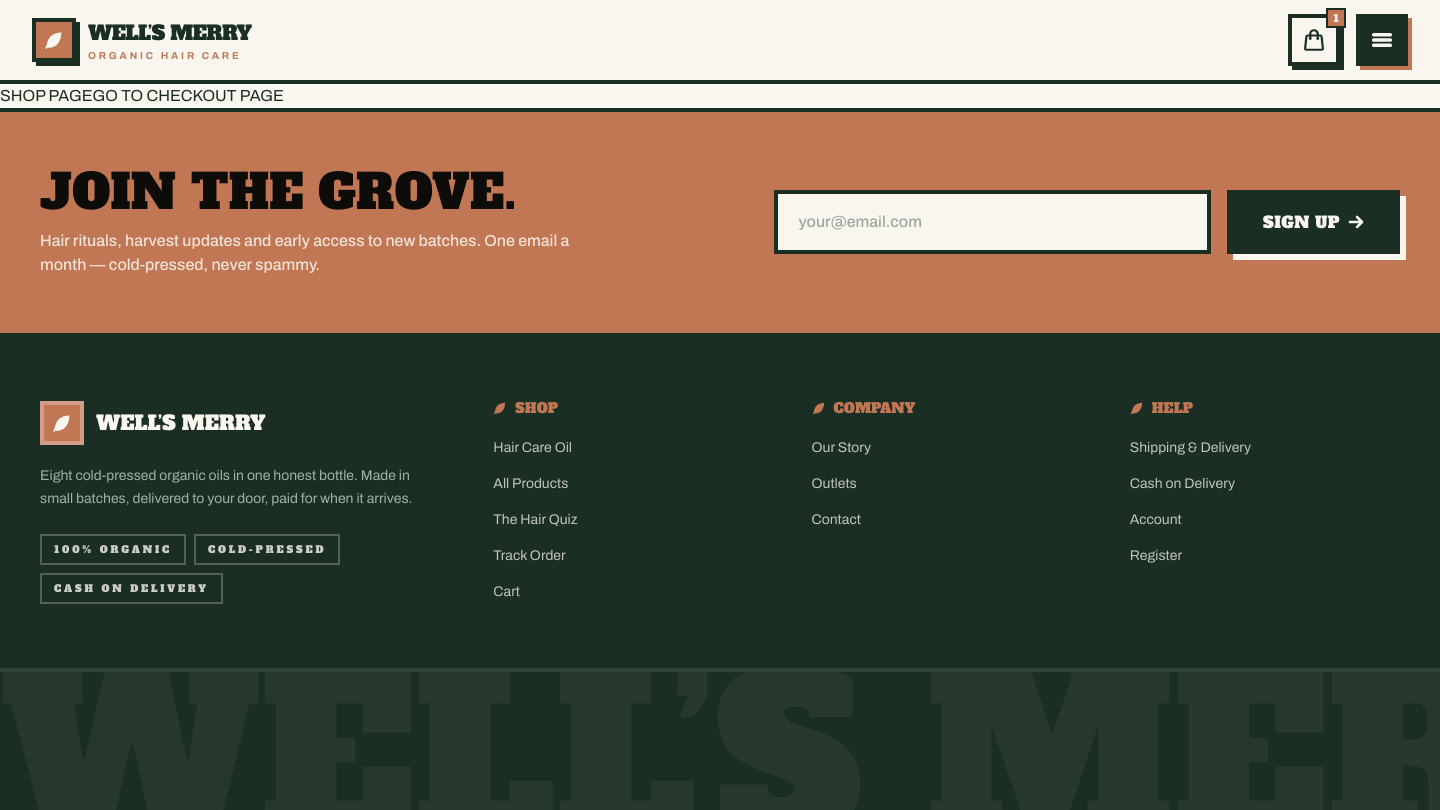
Test case: CartDrawer › closes before navigating when 'View full cart' is clicked
Click the button named "open cart" at (1314, 40), box [1288,14,1340,66]
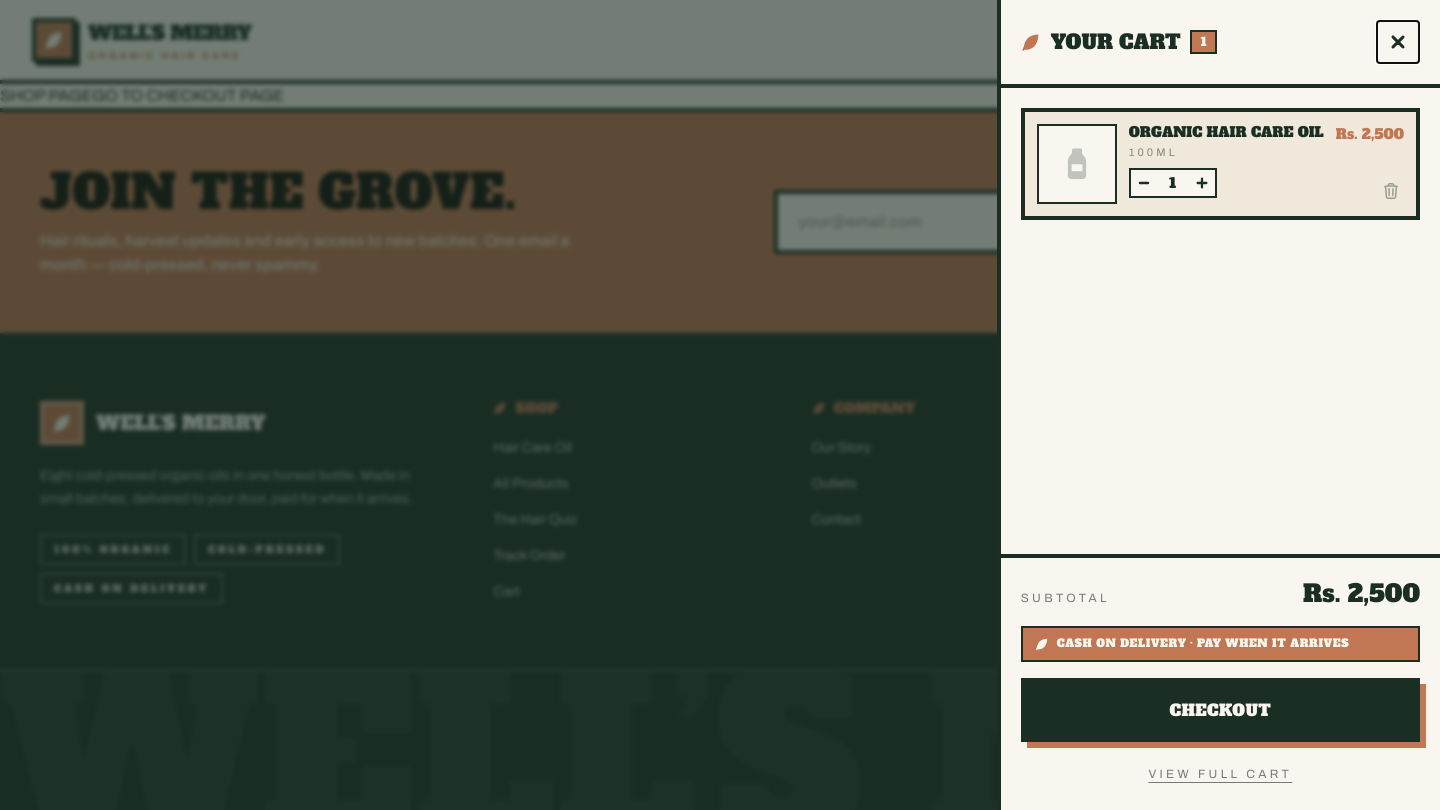
Click the link "View full cart" at (1220, 774), box [1148,767,1292,781]
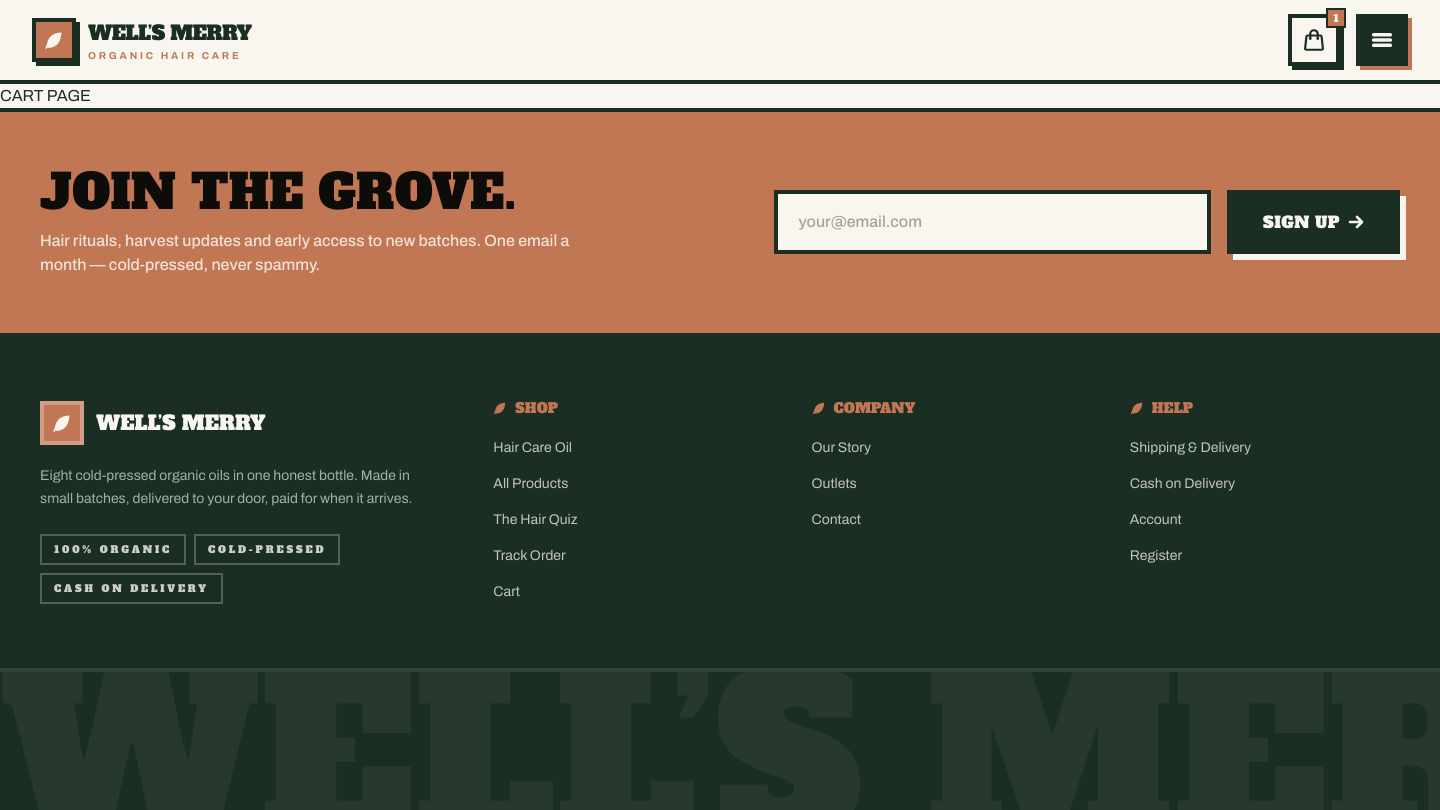
Result: the text "CART PAGE" is shown at [0,87,91,104]
